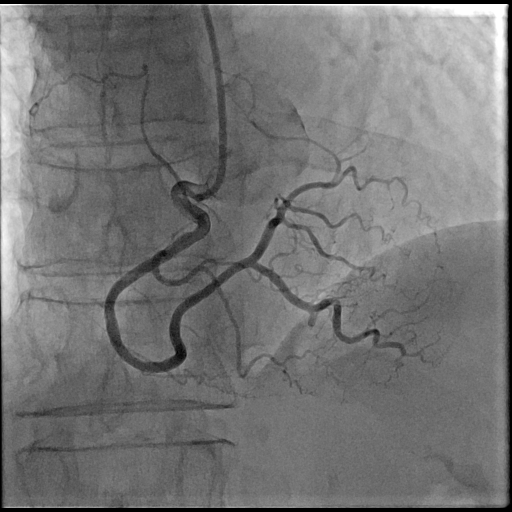RCA: (104, 181, 406, 373)
catherter: (196, 6, 227, 201)
